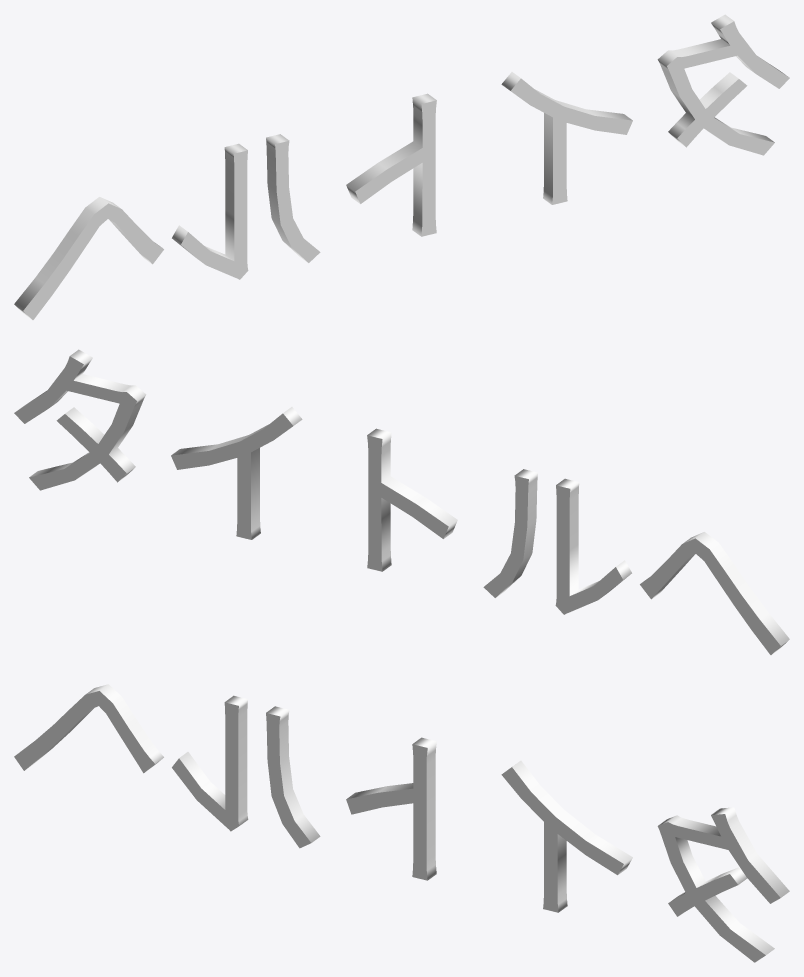
File: Title.obj
3 renders of one model, top to bottom at view 1: azimuth 30°, elevation 25°; view 2: azimuth 150°, elevation 25°; view 3: azimuth 330°, elevation 25°, orthographic.
Visible parts, largest first — view 1: テキスト; view 2: テキスト; view 3: テキスト.
Part boxes in pixels (x1,y1,x2,y2): テキスト: (14, 14, 789, 319); テキスト: (14, 349, 789, 654); テキスト: (14, 684, 789, 962).
Bounding box in the file's own units: 4.86 × 0.858 × 0.1.
1 material, 1 textured.
